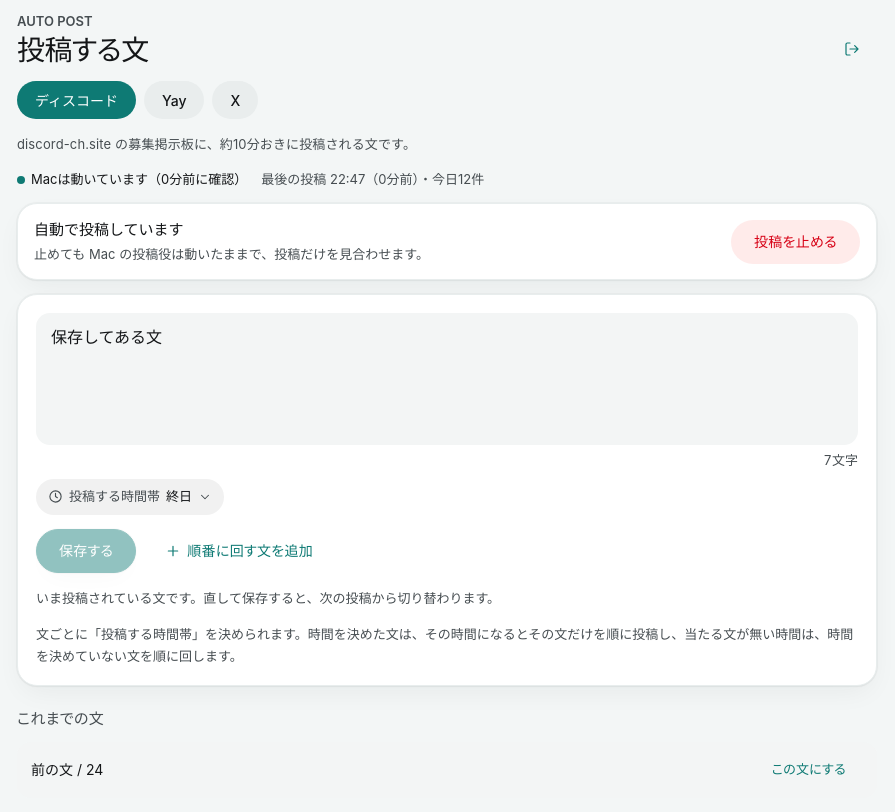
Test: AutoPostView › 書きかけの間は、更新バナーに「書きかけ」と申告する
Replace the text in the text box with "書きかけ". click: (447, 379)
box: left=36, top=313, right=858, bottom=445
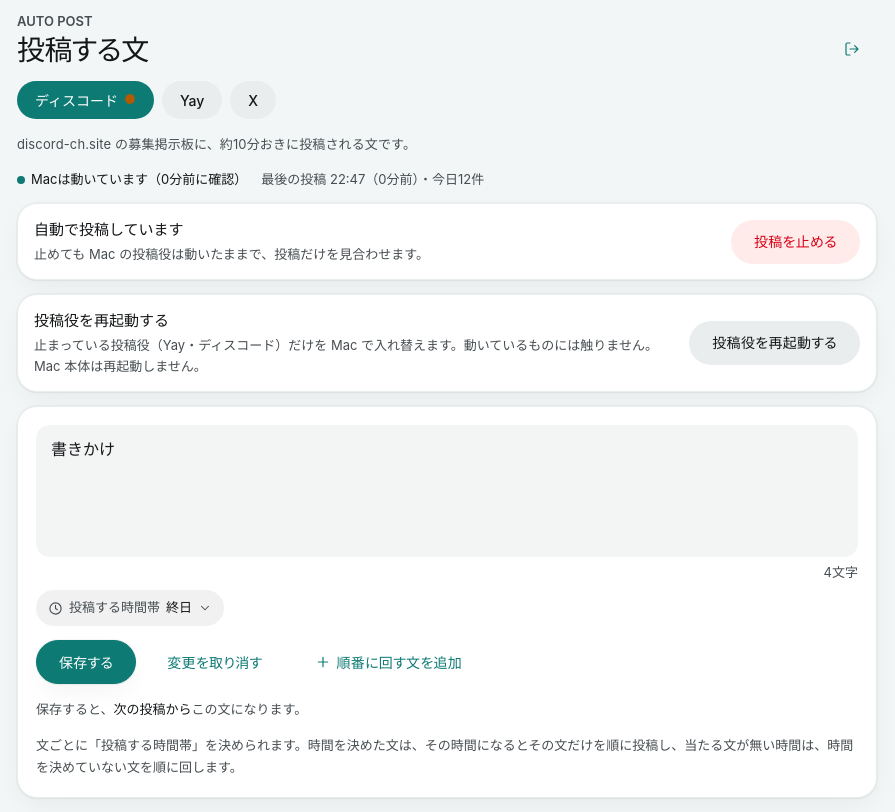
Click the button "変更を取り消す". click: (215, 662)
box: left=144, top=640, right=286, bottom=684
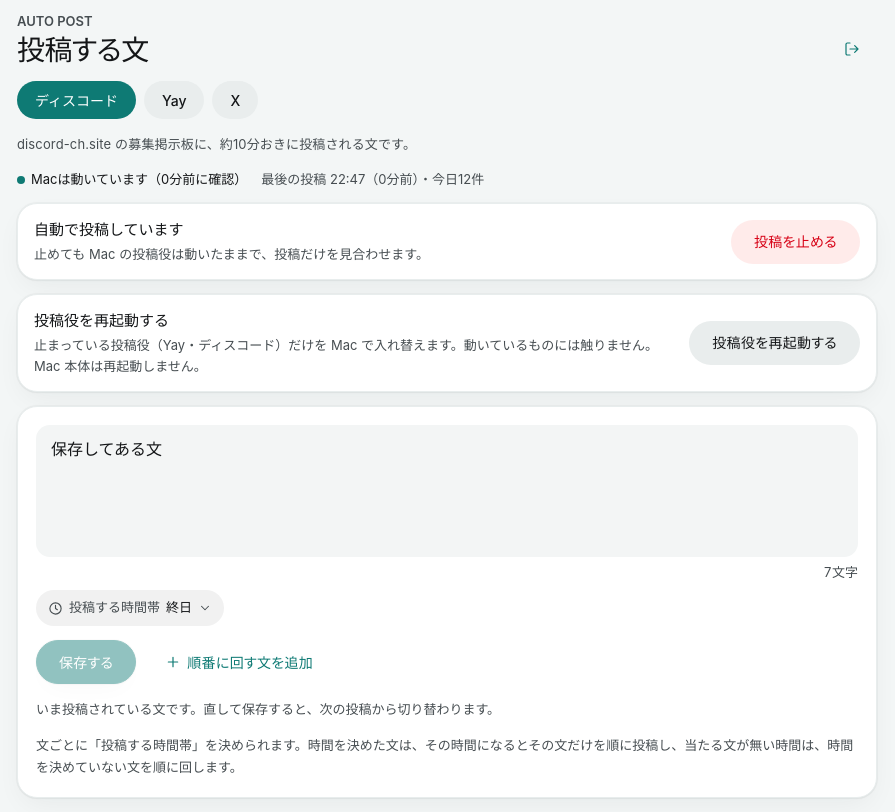
Expected: the text box holds "保存してある文", left=36, top=425, right=858, bottom=557
